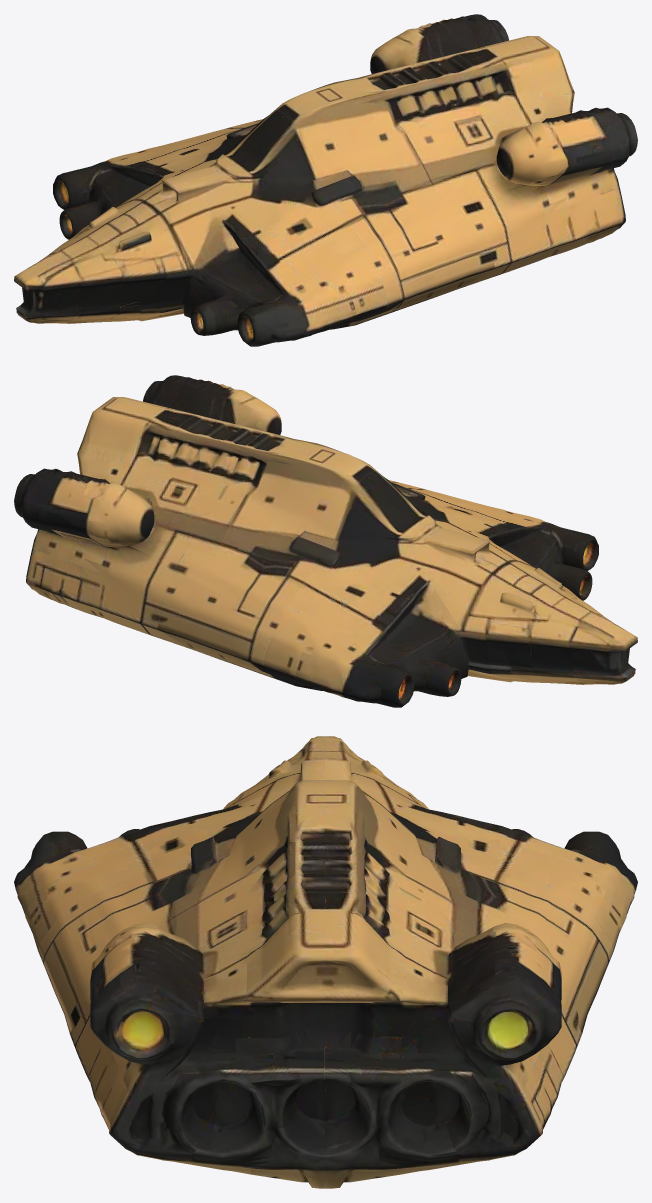
Rendered from nave-cuna.glb.
3 renders of one model, top to bottom at view 1: azimuth 30°, elevation 25°; view 2: azimuth 150°, elevation 25°; view 3: azimuth 270°, elevation 25°, orthographic. The views are drawn at different scales.
Bounding box in the file's own units: 1.9 × 0.591 × 1.31.
Materials: 1 (1 with a texture image).
